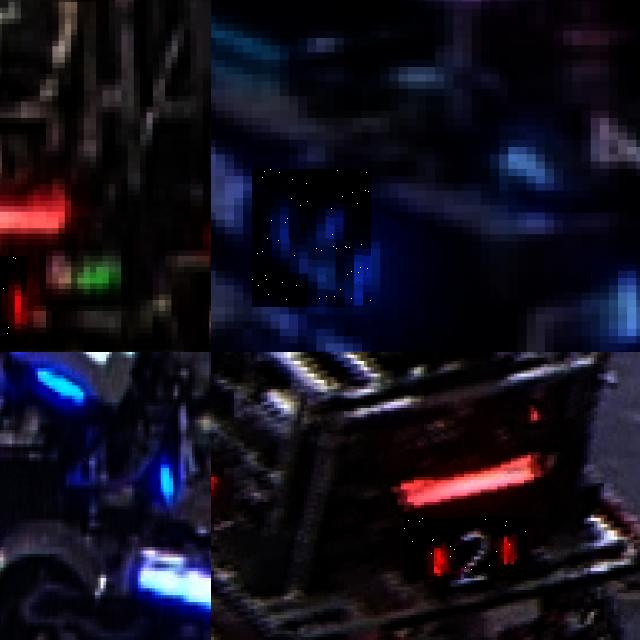B4: (252, 169, 371, 307), (599, 219, 640, 352)
R2: (404, 518, 527, 580), (0, 255, 27, 344)
